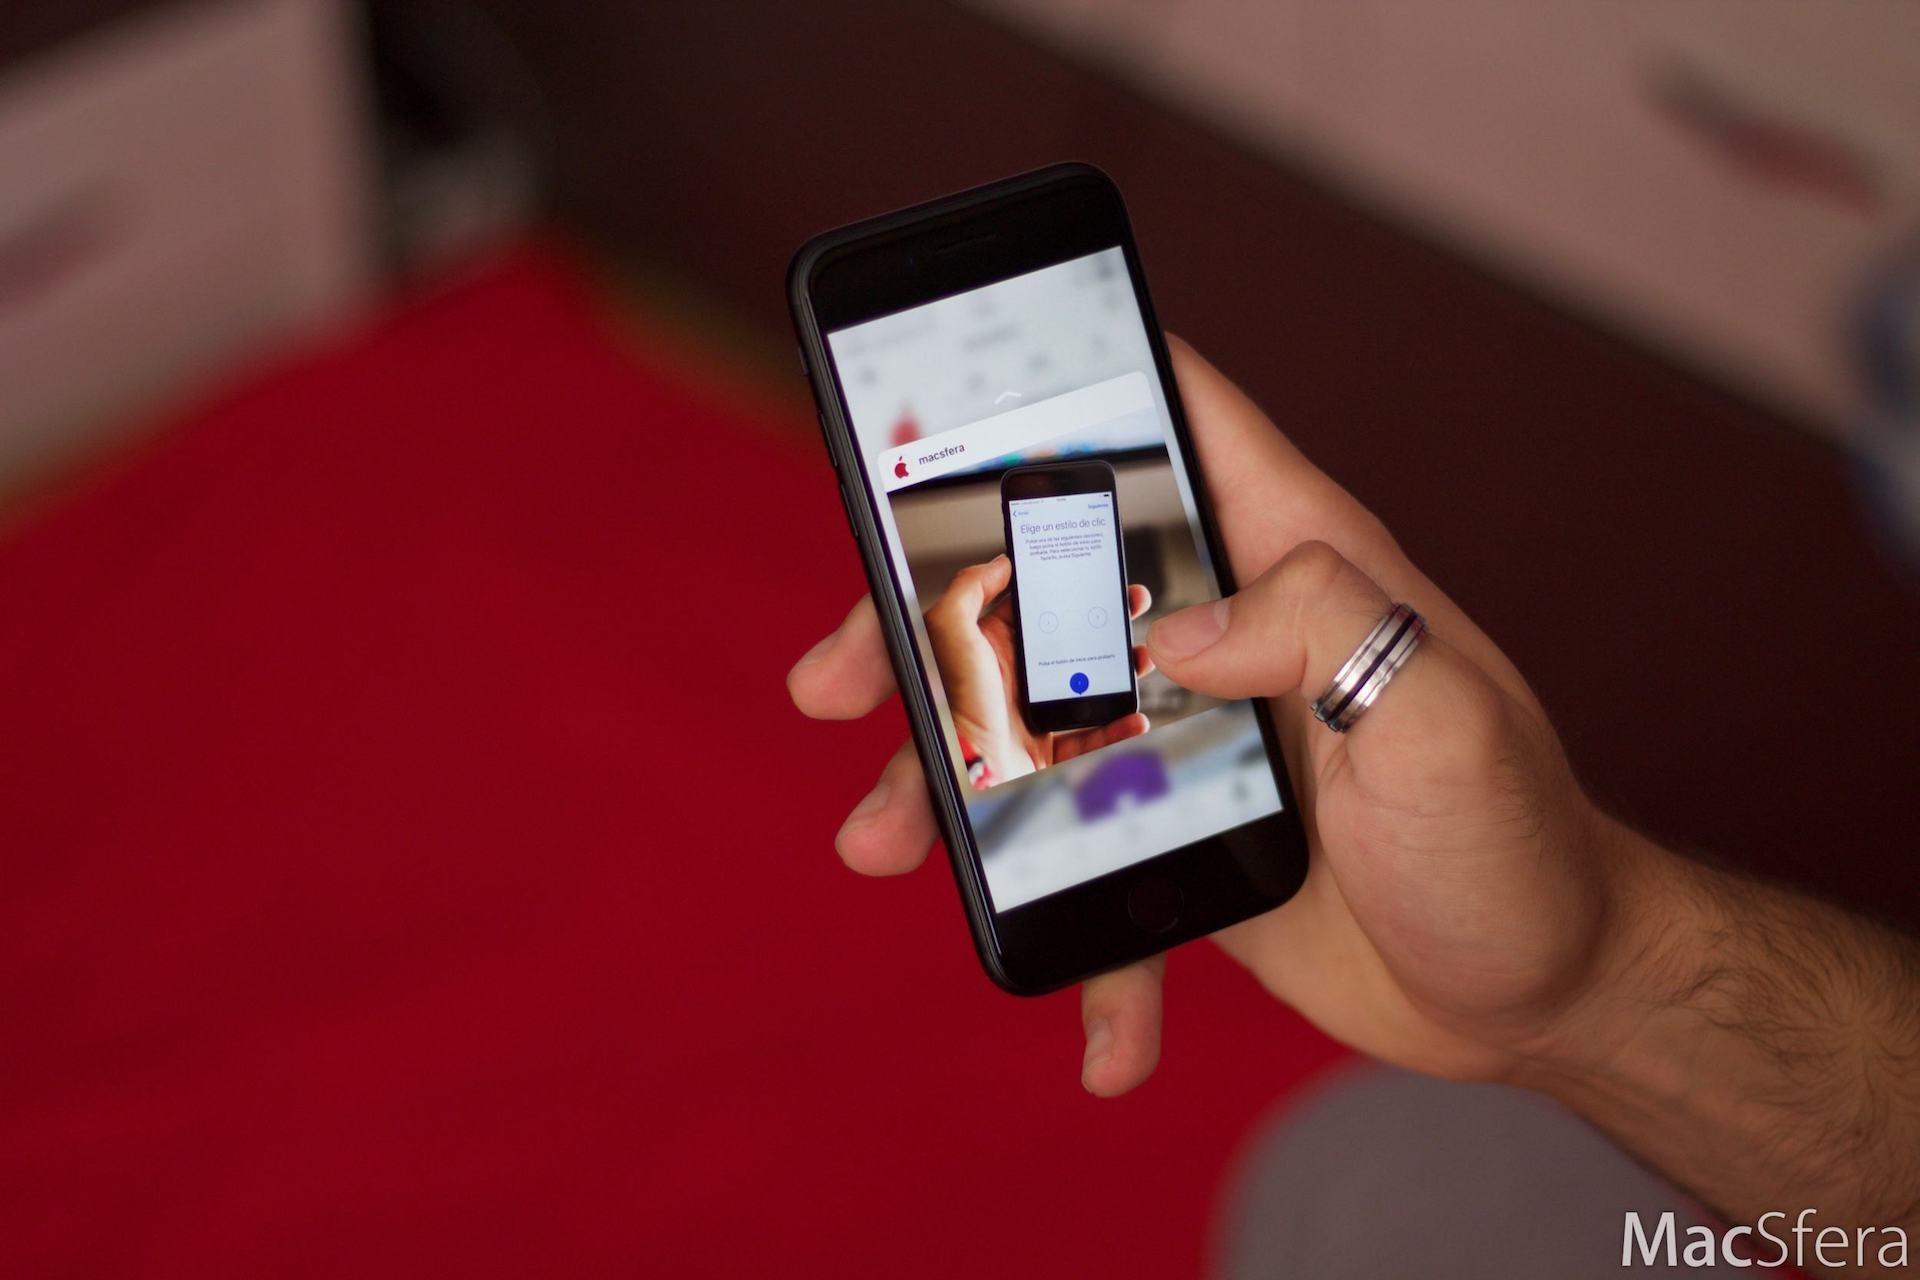smartphone: (794, 159, 1316, 1003), (1006, 453, 1141, 741)
